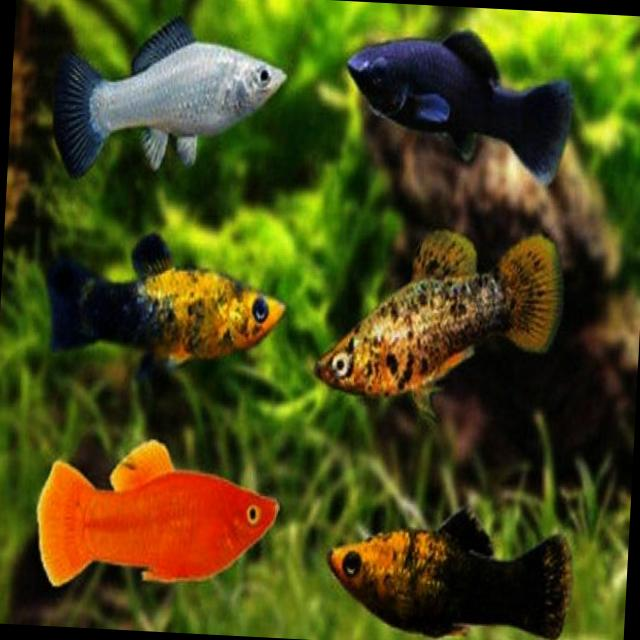PlatyFish: (306, 220, 576, 427), (28, 416, 290, 614), (47, 4, 294, 194), (334, 15, 586, 200), (39, 230, 294, 392), (315, 493, 586, 640)
